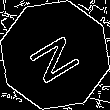N_NE: (23, 25, 87, 85)
